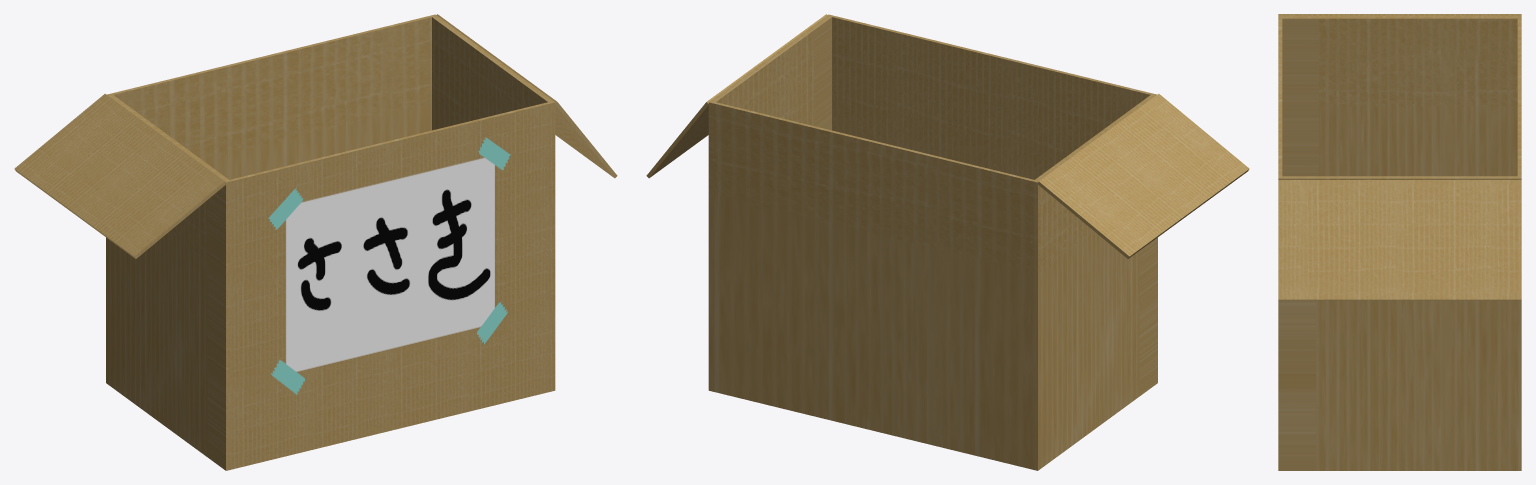
File: Cardboard_MsgG.fbx
3 views of the same model, side by side, from view 1: azimuth 30°, elevation 25°; view 2: azimuth 150°, elevation 25°; view 3: azimuth 270°, elevation 25° (orthographic).
Visible parts, largest first — view 1: Cardboard_MsgGtype; view 2: Cardboard_MsgGtype; view 3: Cardboard_MsgGtype.
Boxes of the visible parts, bbox=[...] form: Cardboard_MsgGtype: bbox=[14, 14, 617, 470]; Cardboard_MsgGtype: bbox=[646, 14, 1249, 470]; Cardboard_MsgGtype: bbox=[1278, 14, 1521, 470].
Size of the model in its own units: 465 by 266 by 200.
